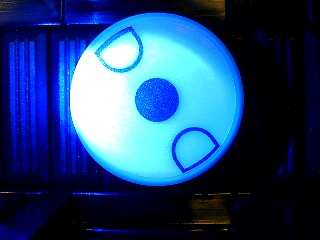BOHOMIPO2: (69, 12, 245, 187)
